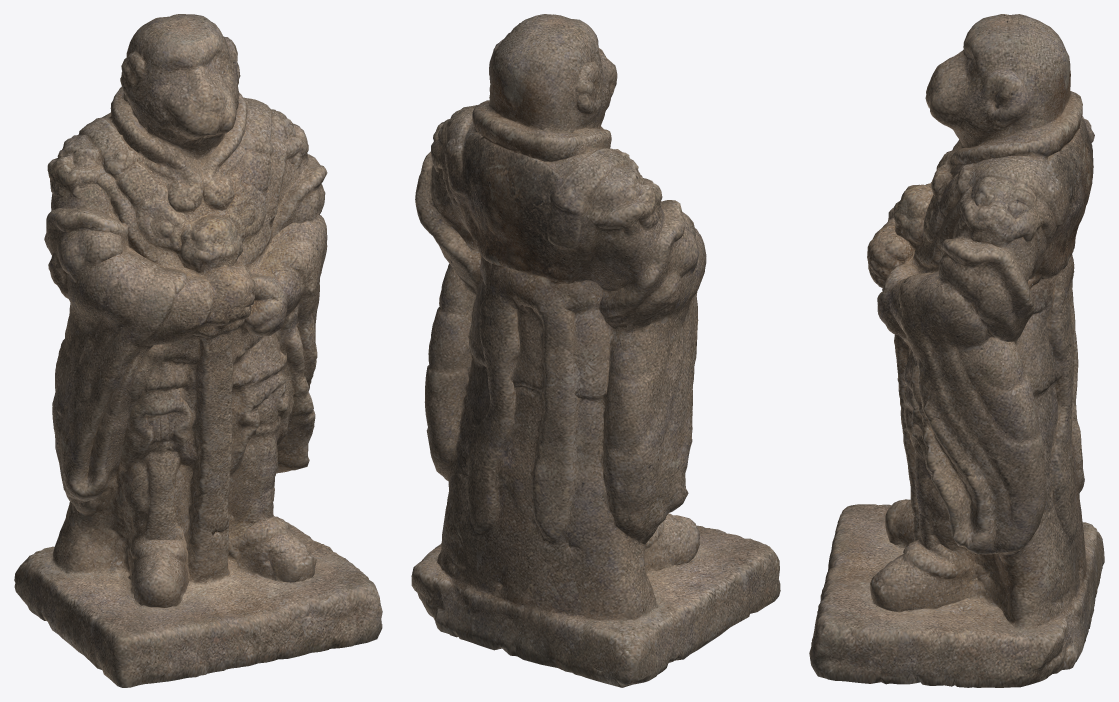
The model's file is Mon_09_3D_02_Pub.glb.
The picture shows the model from 3 angles, left to right: view 1: azimuth 30°, elevation 25°; view 2: azimuth 150°, elevation 25°; view 3: azimuth 270°, elevation 25°; orthographic projection. The views are drawn at different scales.
Parts seen in each view (by area): view 1: SM_ZodiacSignMonkey_01_Cage; view 2: SM_ZodiacSignMonkey_01_Cage; view 3: SM_ZodiacSignMonkey_01_Cage.
Boxes of the visible parts, bbox=[...] form: SM_ZodiacSignMonkey_01_Cage: bbox=[14, 14, 382, 687]; SM_ZodiacSignMonkey_01_Cage: bbox=[411, 14, 780, 687]; SM_ZodiacSignMonkey_01_Cage: bbox=[809, 14, 1104, 687].
Bounding box in the file's own units: 0.5998 × 1.24 × 0.5465.
Materials: 1 (1 with a texture image).
